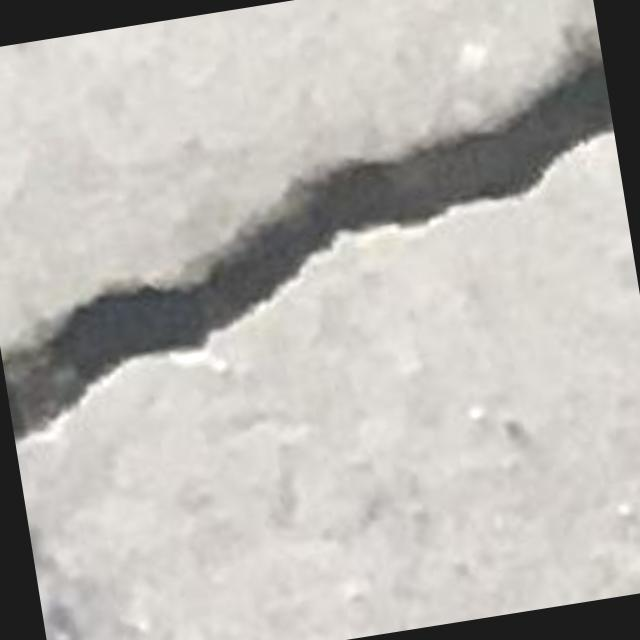crack: (2, 12, 613, 442)
